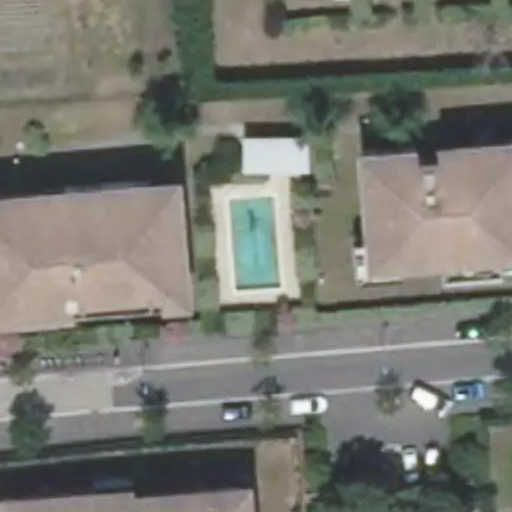pool: (229, 197, 282, 286)
